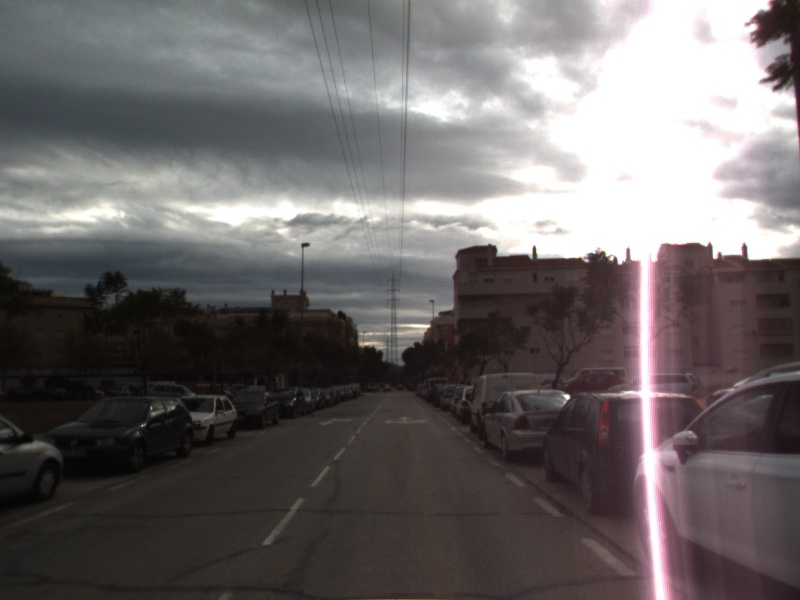STRAIGHT_LEFT_RIGHT: (382, 413, 429, 426)
